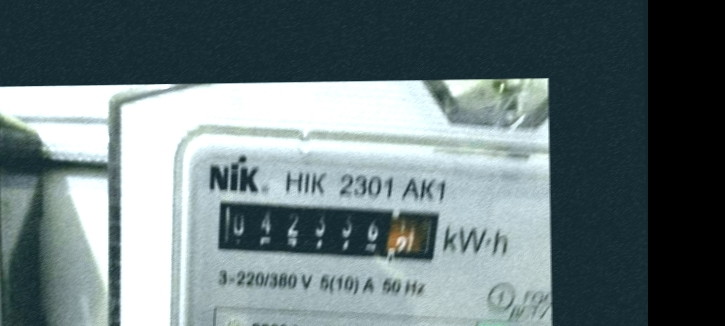0: (232, 209, 245, 238)
2: (284, 210, 302, 238)
3: (311, 210, 327, 239), (340, 211, 354, 239)
4: (258, 210, 274, 237)
6: (365, 216, 380, 243)
screen: (206, 189, 448, 274)
